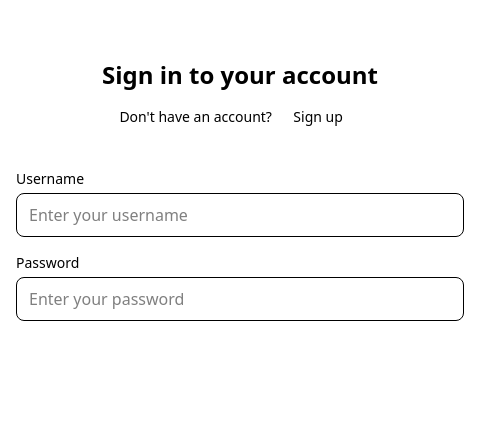
it: AuthForm Component › Rendering › switches to register form when sign up is clicked
Click the button "Sign up": (318, 117) [276,98,361,137]
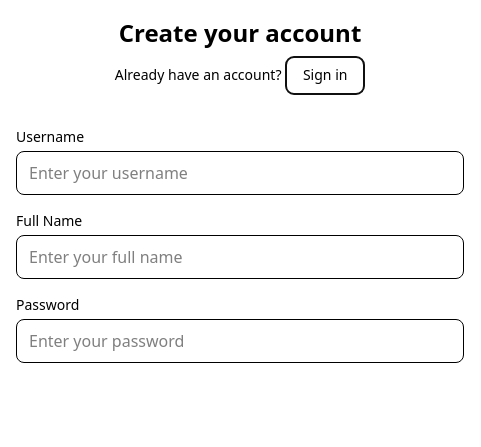
Now the heading "Create your account" is shown, box [119,16,361,49]
Now the field labelled "Full Name" is shown, box [16,235,464,279]
Now the text "Already have an account?" is shown, box [115,65,285,84]
